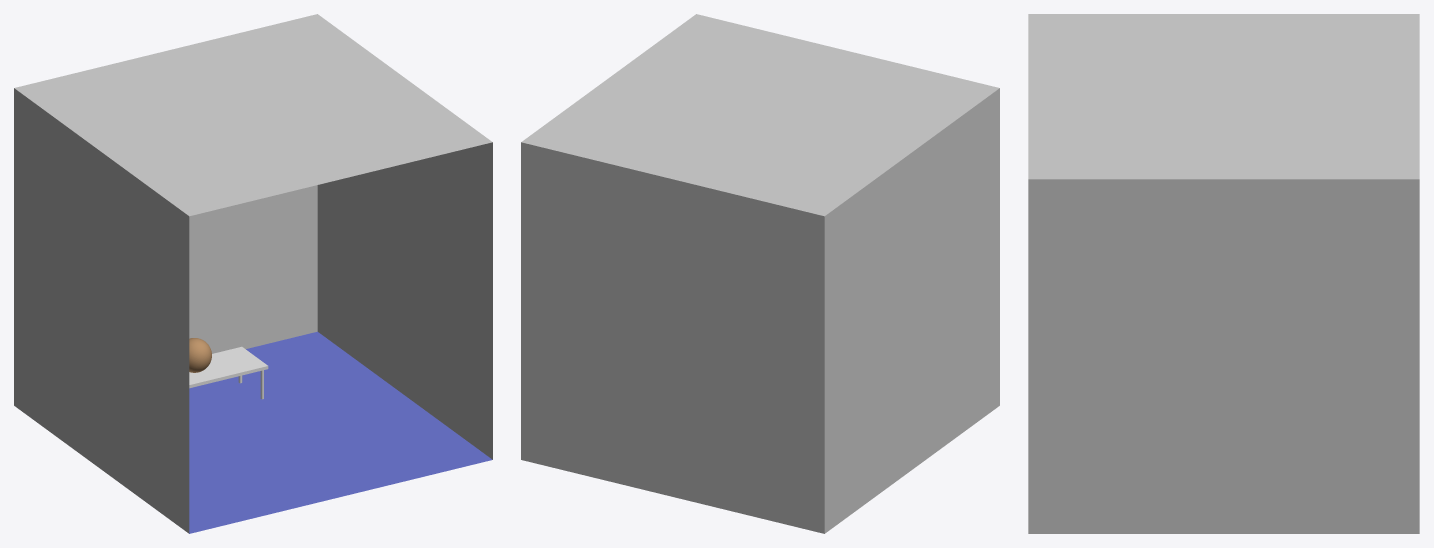
Rendered from TableSphere-7bit-reduced.dae.
3 views of the same model, side by side, from view 1: azimuth 30°, elevation 25°; view 2: azimuth 150°, elevation 25°; view 3: azimuth 270°, elevation 25° (orthographic). The views are drawn at different scales.
Parts seen in each view (by area): view 1: WallLeft, Ceiling, WallRight, Floor, WallBack, TableTop, Icosphere; view 2: WallBack, WallLeft, Ceiling; view 3: WallRight, Ceiling.
Boxes of the visible parts, left/top/right/bottom form: WallLeft: left=14, top=88, right=189, bottom=533; Ceiling: left=14, top=14, right=492, bottom=216; WallRight: left=317, top=142, right=492, bottom=459; Floor: left=189, top=331, right=492, bottom=533; WallBack: left=189, top=185, right=317, bottom=353; TableTop: left=189, top=346, right=268, bottom=388; Icosphere: left=189, top=338, right=211, bottom=372; WallBack: left=521, top=142, right=824, bottom=533; WallLeft: left=824, top=88, right=999, bottom=533; Ceiling: left=521, top=14, right=999, bottom=216; WallRight: left=1028, top=179, right=1419, bottom=533; Ceiling: left=1028, top=14, right=1419, bottom=179.
Bounding box in the file's own units: 20 × 20 × 20.
